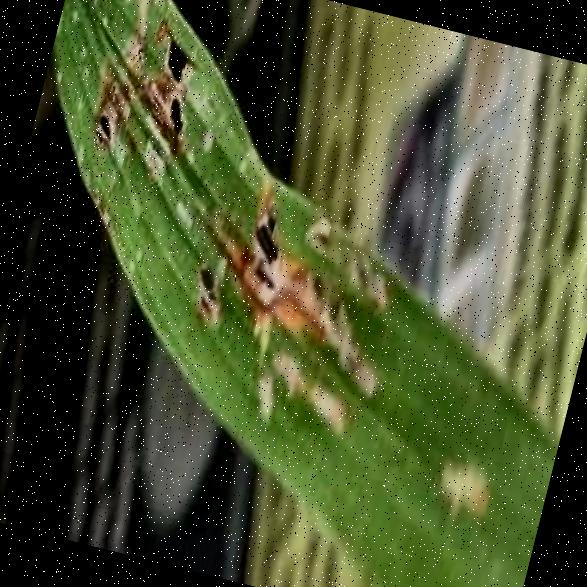Leaf_smut: (402, 429, 510, 534)
